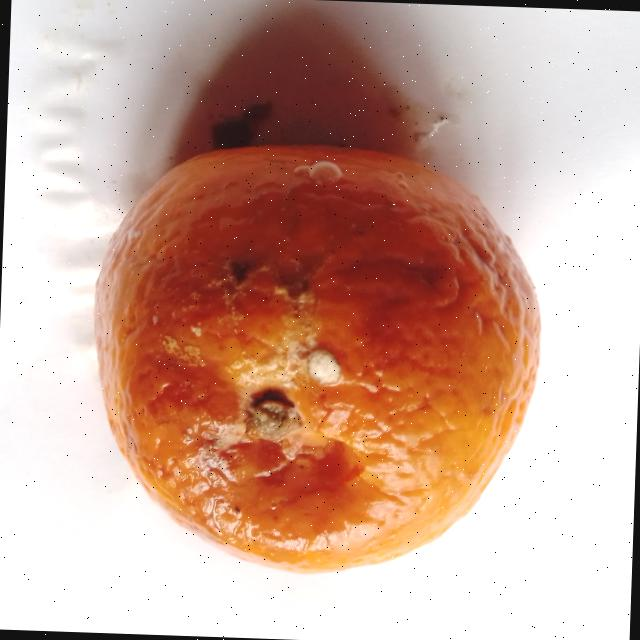Rotten: (85, 136, 550, 583)
